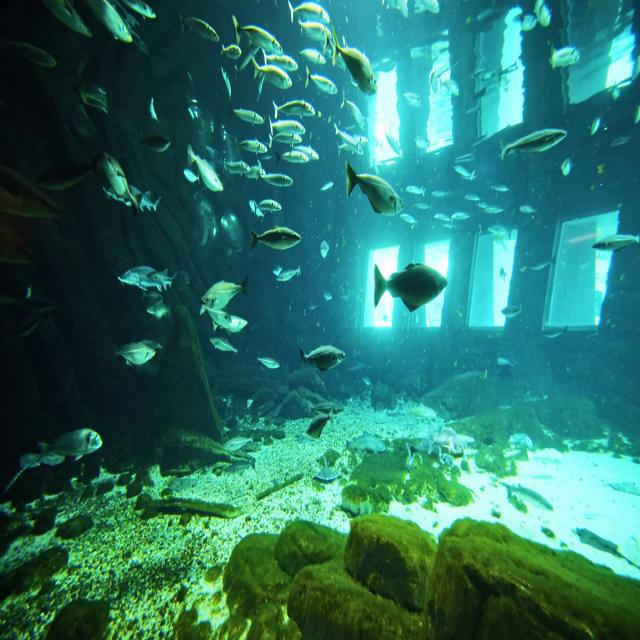fish: (374, 264, 446, 311), (498, 126, 568, 166), (331, 39, 378, 94), (348, 170, 398, 214), (200, 276, 248, 312), (120, 268, 178, 295), (304, 344, 346, 380), (248, 227, 306, 250), (270, 101, 316, 123)
